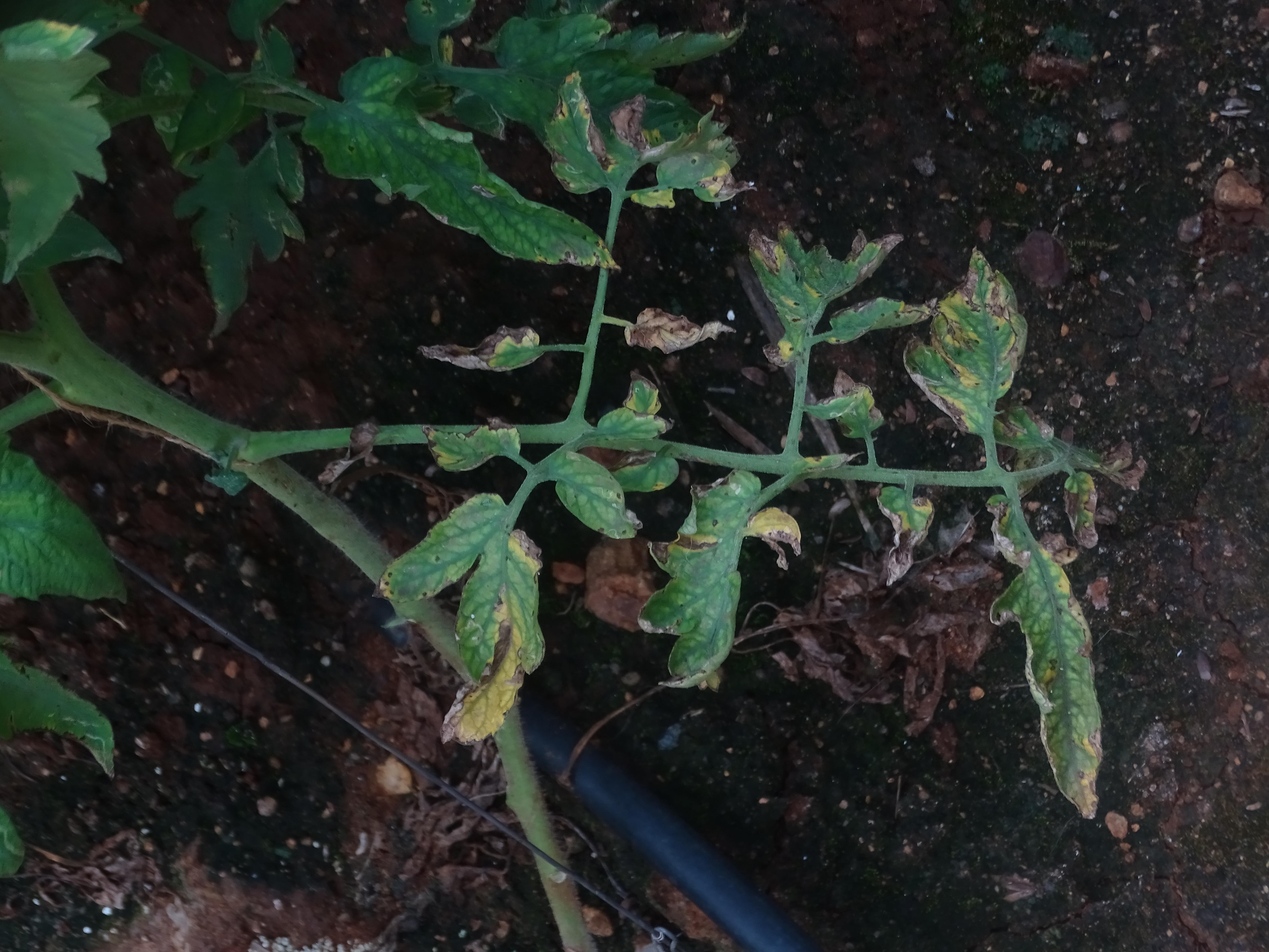Early Blight: (300, 46, 626, 274), (373, 491, 551, 752), (983, 494, 1110, 825), (641, 464, 805, 694), (536, 67, 761, 210), (740, 222, 939, 370), (900, 241, 1031, 440), (548, 454, 641, 546), (871, 483, 940, 595), (412, 321, 543, 376), (415, 415, 526, 477), (615, 303, 737, 356), (1057, 471, 1103, 553)
